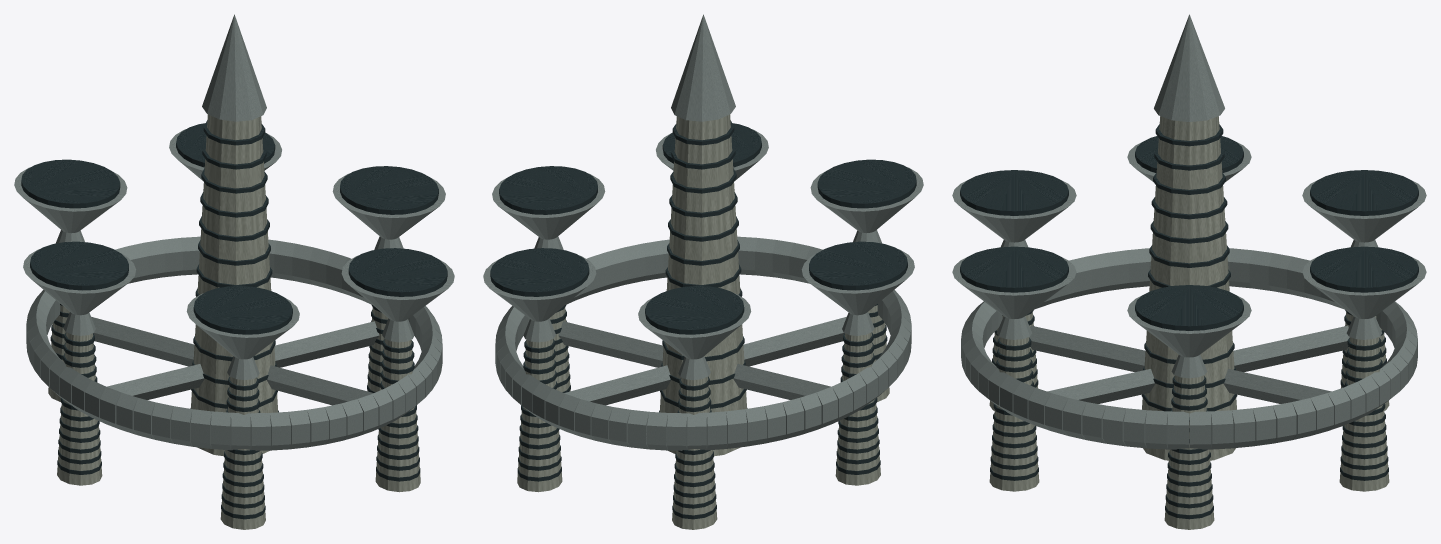
The model's file is scrith_resonator_01.fbx.
The picture shows the model from 3 angles, left to right: view 1: azimuth 30°, elevation 25°; view 2: azimuth 150°, elevation 25°; view 3: azimuth 270°, elevation 25°; orthographic projection.
Parts seen in each view (by area): view 1: scrith_resonator_01_LOD0; view 2: scrith_resonator_01_LOD0; view 3: scrith_resonator_01_LOD0.
Boxes of the visible parts, x1=… form: scrith_resonator_01_LOD0: x1=14, y1=14, x2=454, y2=529; scrith_resonator_01_LOD0: x1=483, y1=14, x2=923, y2=529; scrith_resonator_01_LOD0: x1=952, y1=14, x2=1426, y2=529.
Size of what is drawn, in the model's own units: 1 by 1 by 1.
